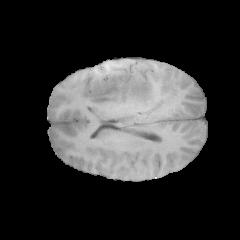glioma: (90, 70, 177, 128)
